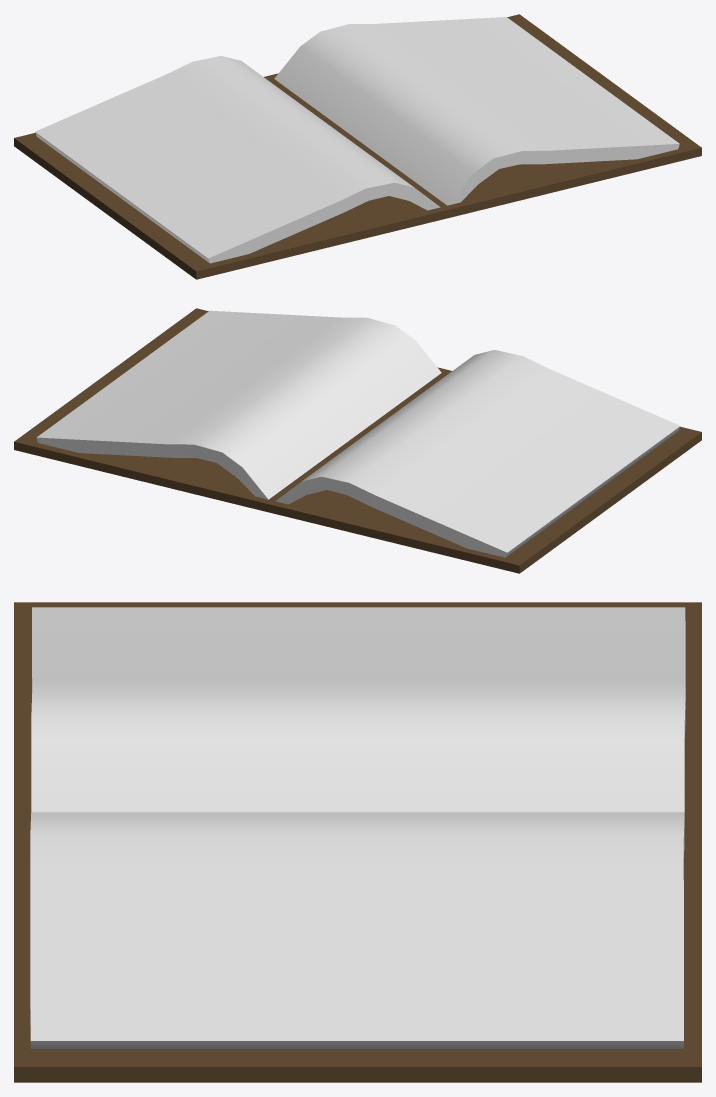
Rendered from Boek.glb.
3 renders of one model, top to bottom at view 1: azimuth 30°, elevation 25°; view 2: azimuth 150°, elevation 25°; view 3: azimuth 270°, elevation 25°, orthographic. The views are drawn at different scales.
Parts seen in each view (by area): view 1: Cube.001, Cube, Cover L, Cover R, Spine; view 2: Cube.001, Cube, Cover L, Cover R, Spine; view 3: Cube.001, Cube, Cover R, Cover L, Spine.
Part boxes in pixels (x1,y1,x2,y2): Cube.001: (274,17,679,205); Cube: (35,56,440,263); Cover L: (14,133,433,279); Cover R: (461,14,701,213); Spine: (264,73,464,221); Cube.001: (36,310,441,499); Cube: (275,350,680,557); Cover L: (282,427,701,573); Cover R: (14,308,254,507); Spine: (251,367,451,515); Cube.001: (30,812,684,1048); Cube: (31,607,685,812); Cover R: (14,849,701,1082); Cover L: (14,602,701,820); Spine: (14,820,701,849).
Bounding box in the file's own units: 3.2 × 0.2729 × 2.
